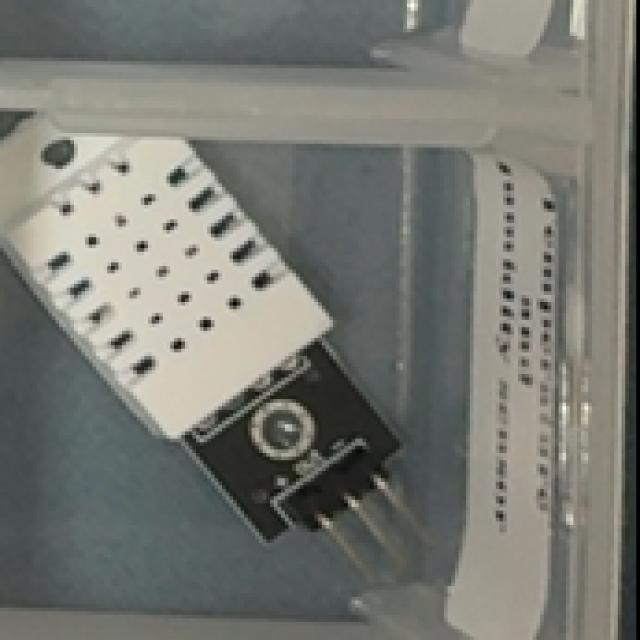Temperature And Humidity Sensor: (0, 84, 427, 574)
